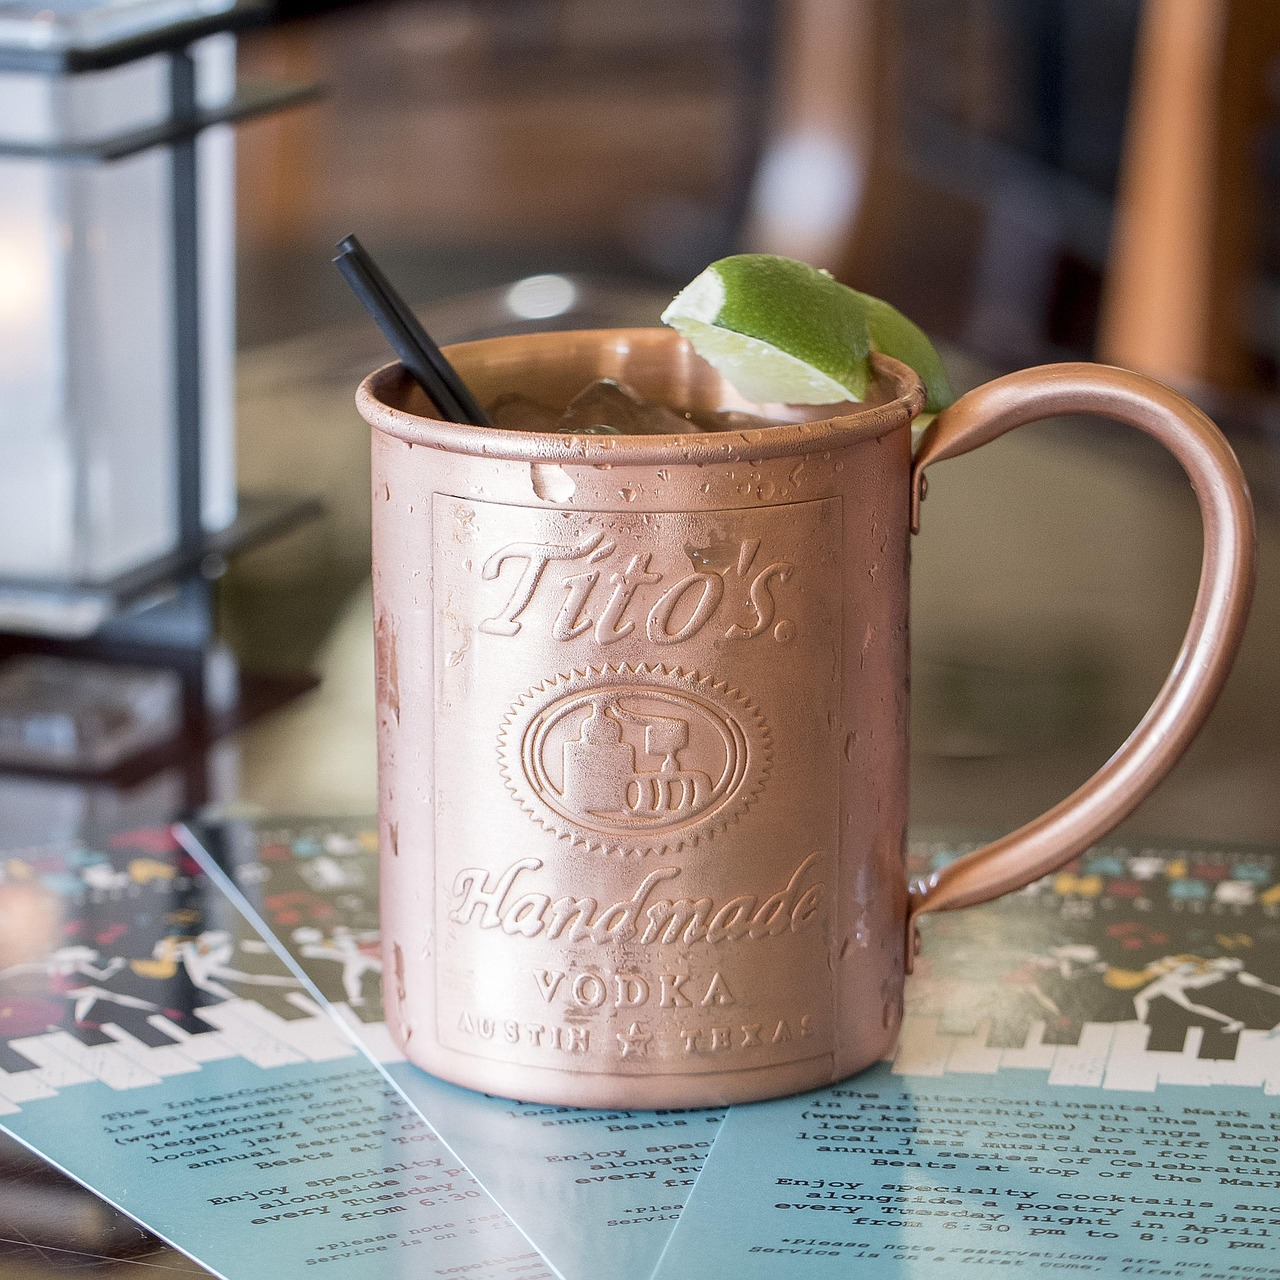mug: (291, 241, 1245, 1152)
